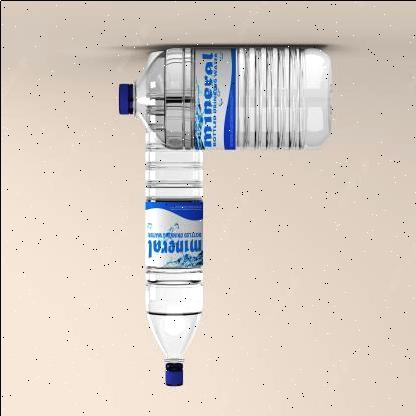Plastic Bottle: (118, 46, 330, 148), (144, 128, 202, 386)
